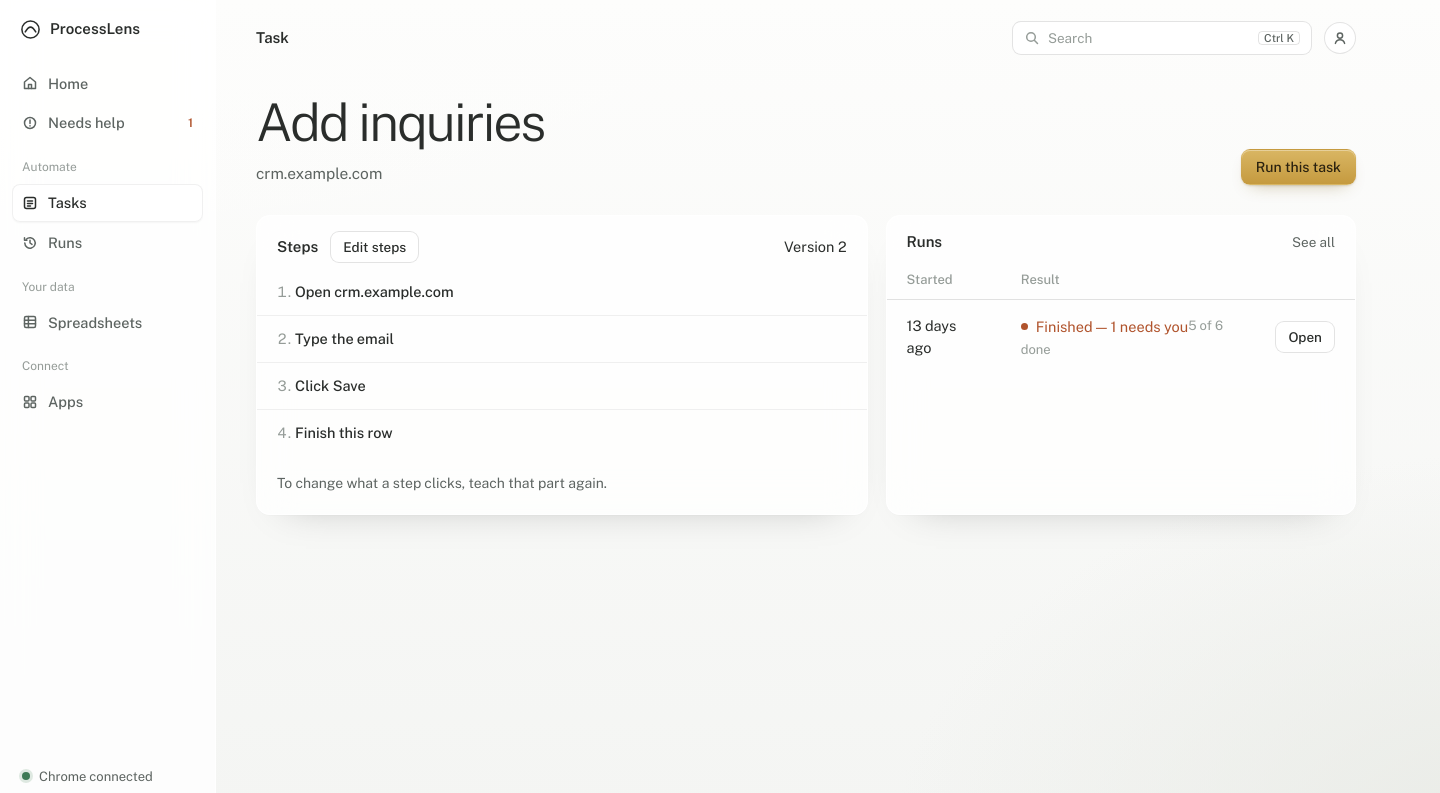
the workflow editor shows only plain words › in edit mode, with its own controls
Click the button "Edit steps" at {"x": 375, "y": 247}, box x1=330 y1=231 x2=419 y2=263
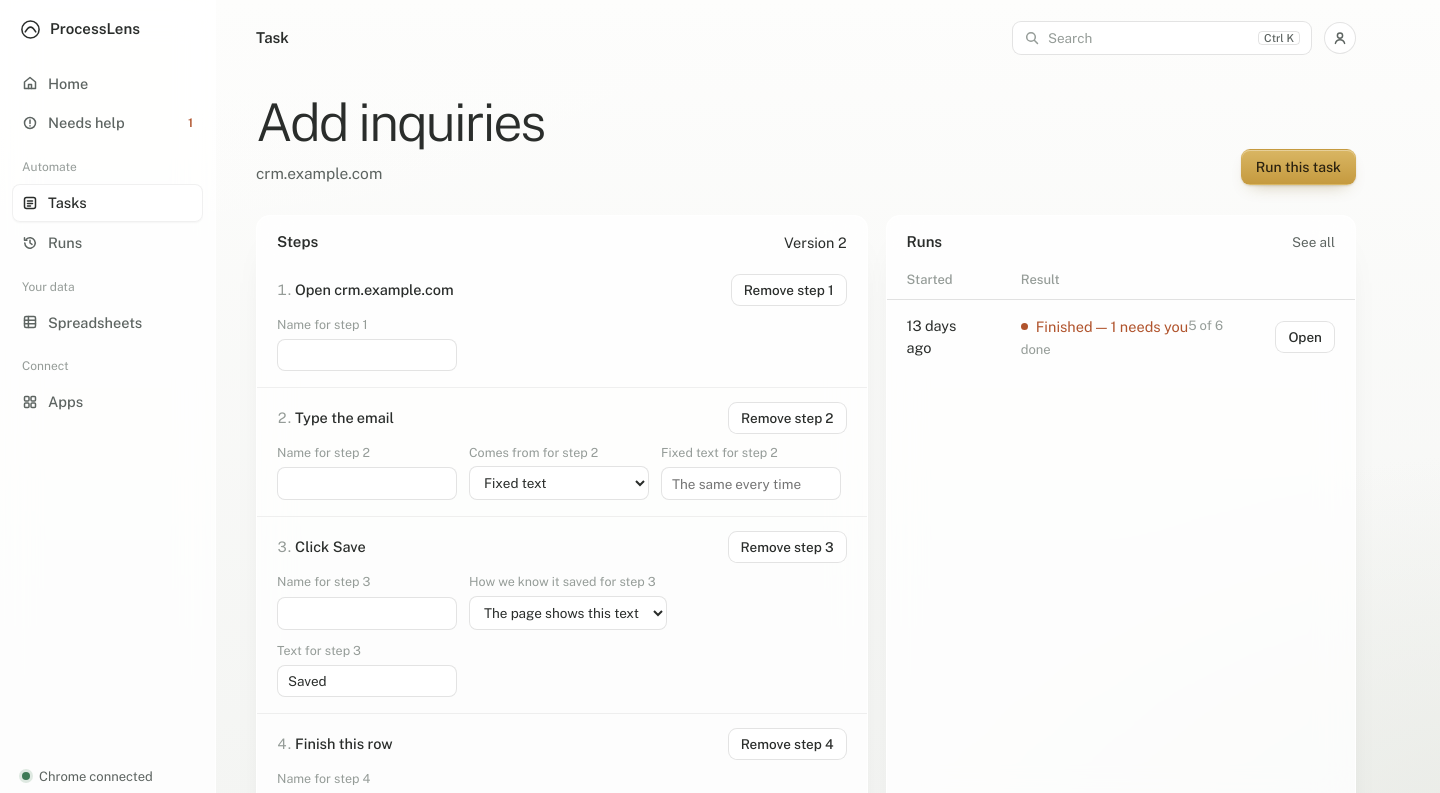
Check: the text "Save" is shown, box x1=295 y1=538 x2=366 y2=555
Check: the text "Comes from" is shown, box x1=469 y1=445 x2=591 y2=460
Check: the text "How we know it saved" is shown, box x1=469 y1=574 x2=648 y2=589
